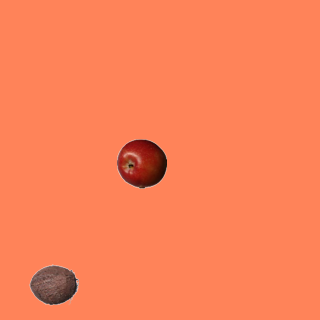Apple Braeburn: (116, 138, 166, 188)
Cocos: (28, 259, 78, 309)
